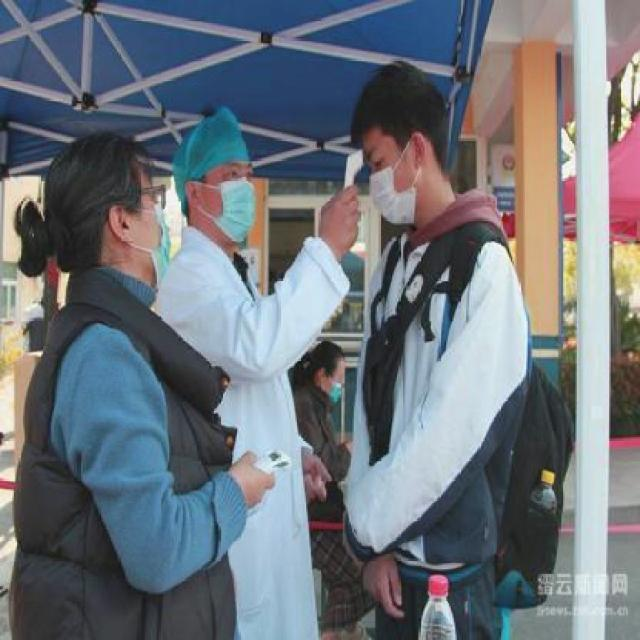face_mask: (105, 182, 182, 284), (366, 136, 422, 232), (206, 157, 265, 246), (325, 366, 352, 406)
hand_noglove: (314, 183, 361, 259), (360, 552, 408, 617), (231, 449, 275, 511), (297, 449, 332, 505)
head_nohelmet: (334, 68, 435, 140), (49, 122, 154, 183), (176, 106, 266, 168), (311, 334, 352, 372)
person: (315, 44, 530, 640), (26, 114, 186, 640), (183, 84, 304, 640)
